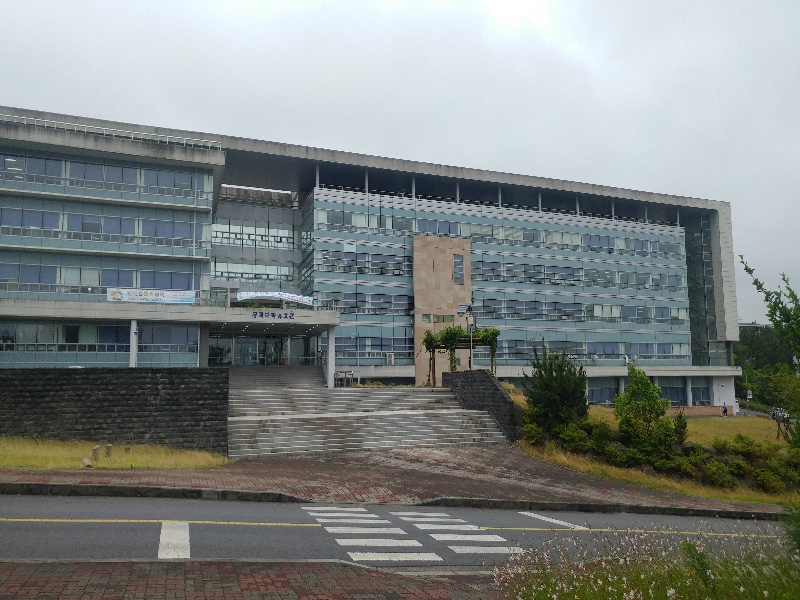Engineering College Building 4: (1, 109, 746, 420), (27, 148, 721, 374), (242, 295, 308, 335)
